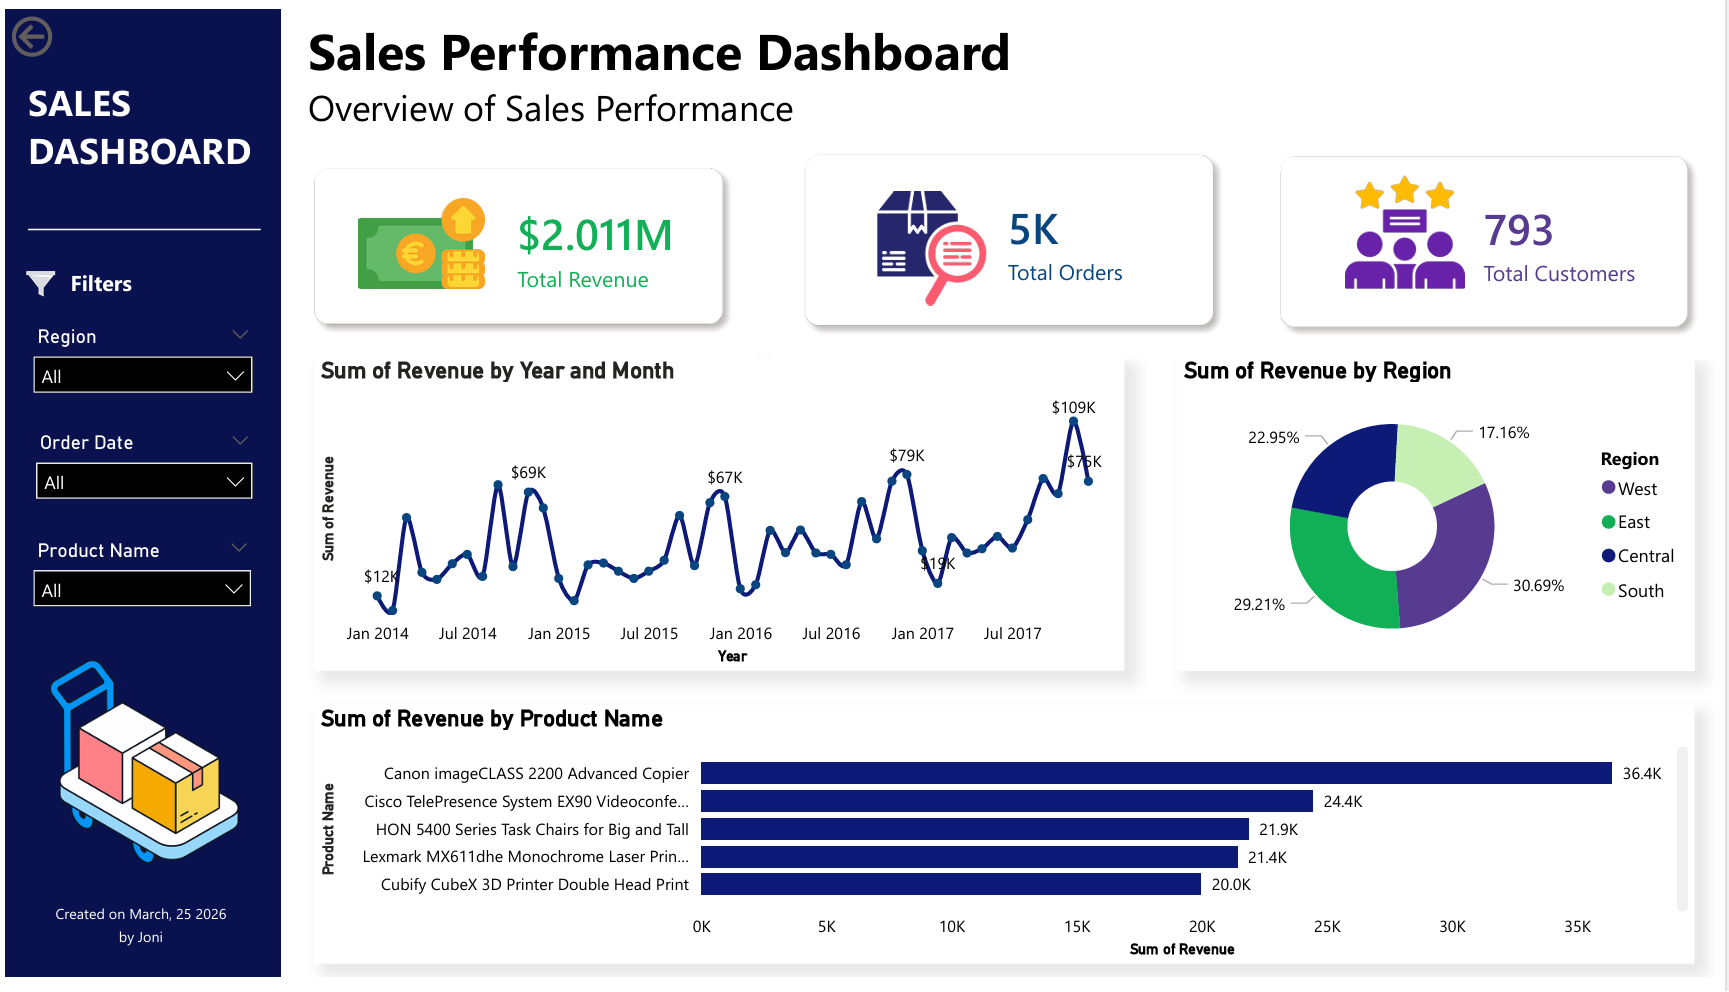

The dashboard page shown, as its layout file describes it:
{"tool":"powerbi","page":{"name":"Page 1","canvas":[1280,720],"ordinal":0},"visuals":[{"type":"shape","box":[0,0,205,720],"z":0},{"type":"lineChart","fields":{"Y":["Sum(sales_data.Revenue)"],"Category":["sales_data.Order Date.Variation.Date Hierarchy.Year","sales_data.Order Date.Variation.Date Hierarchy.Month"]},"box":[230,258.3,603.3,233.3],"z":1000},{"type":"barChart","fields":{"Category":["sales_data.Product Name"],"Y":["Sum(sales_data.Revenue)"]},"box":[230,516.7,1026.7,193.3],"z":2000},{"type":"cardVisual","fields":{"Data":["sales_data.Total Customers"]},"box":[925.5,84.7,351.4,175.7],"z":3000,"group":"g3"},{"type":"donutChart","fields":{"Category":["sales_data.Region"],"Y":["Sum(sales_data.Revenue)"]},"box":[871.7,258.3,385,233.3],"z":3000},{"type":"cardVisual","fields":{"Data":["sales_data.Total Orders"]},"box":[570.9,83.5,352.9,175.7],"z":4000,"group":"g2"},{"type":"slicer","fields":{"Values":["sales_data.Order Date"]},"box":[12.7,308.5,181.4,62.9],"z":4000},{"type":"cardVisual","fields":{"Data":["sales_data.Total Revenue"]},"box":[206.3,93.7,352.9,164.3],"z":5000,"group":"g1"},{"type":"slicer","fields":{"Values":["sales_data.Region"]},"box":[11.2,229.9,182.9,62.9],"z":5000},{"type":"slicer","fields":{"Values":["sales_data.Product Name"]},"box":[11.2,388.5,181.4,62.9],"z":6000},{"type":"actionButton","box":[0,0,100,40],"z":7000},{"type":"textbox","box":[220,0,841.4,97.1],"z":8000},{"type":"group","id":"g1","title":"Group 1","box":[206.3,93.7,352.9,164.3],"z":9000},{"type":"group","id":"g2","title":"Group 2","box":[570.9,83.5,352.9,175.7],"z":10000},{"type":"group","id":"g3","title":"Group 3","box":[925.5,84.7,351.4,175.7],"z":11000},{"type":"textbox","box":[11.7,658.3,178.3,48.3],"z":12000},{"type":"shape","box":[16.7,155,173.3,16.7],"z":13000},{"type":"image","box":[260.6,126.6,100,94.3],"z":13001,"group":"g1"},{"type":"image","box":[616.6,134.9,145.7,84.3],"z":13003,"group":"g2"},{"type":"image","box":[996.9,121.8,90,88.6],"z":13004,"group":"g3"},{"type":"image","box":[11.6,186.9,29.1,31.8],"z":14000},{"type":"textbox","box":[39.8,187.1,62.9,34.3],"z":15000},{"type":"image","box":[12.9,480,180,158.6],"z":16000},{"type":"textbox","box":[11.7,45,183.3,91.7],"z":17000}]}

Visuals, with their boxes in screenshot pixels (x1, y1, x2, y2), scaled from the page's 1280x720 canvas onto the 1729x992 screenshot:
shape: box(0, 0, 277, 991)
lineChart - Sum(sales_data.Revenue) x sales_data.Order Date.Variation.Date Hierarchy.Year: box(311, 356, 1126, 677)
barChart - sales_data.Product Name x Sum(sales_data.Revenue): box(311, 712, 1698, 978)
cardVisual - sales_data.Total Customers: box(1250, 117, 1725, 359)
donutChart - sales_data.Region x Sum(sales_data.Revenue): box(1177, 356, 1698, 677)
cardVisual - sales_data.Total Orders: box(771, 115, 1248, 357)
slicer - sales_data.Order Date: box(17, 425, 262, 512)
cardVisual - sales_data.Total Revenue: box(279, 129, 755, 355)
slicer - sales_data.Region: box(15, 317, 262, 403)
slicer - sales_data.Product Name: box(15, 535, 260, 622)
actionButton: box(0, 0, 135, 55)
textbox: box(297, 0, 1434, 134)
"Group 1" group: box(279, 129, 755, 355)
"Group 2" group: box(771, 115, 1248, 357)
"Group 3" group: box(1250, 117, 1725, 359)
textbox: box(16, 907, 257, 974)
shape: box(23, 214, 257, 237)
image: box(352, 174, 487, 304)
image: box(833, 186, 1030, 302)
image: box(1347, 168, 1468, 290)
image: box(16, 258, 55, 301)
textbox: box(54, 258, 139, 305)
image: box(17, 661, 261, 880)
textbox: box(16, 62, 263, 188)
